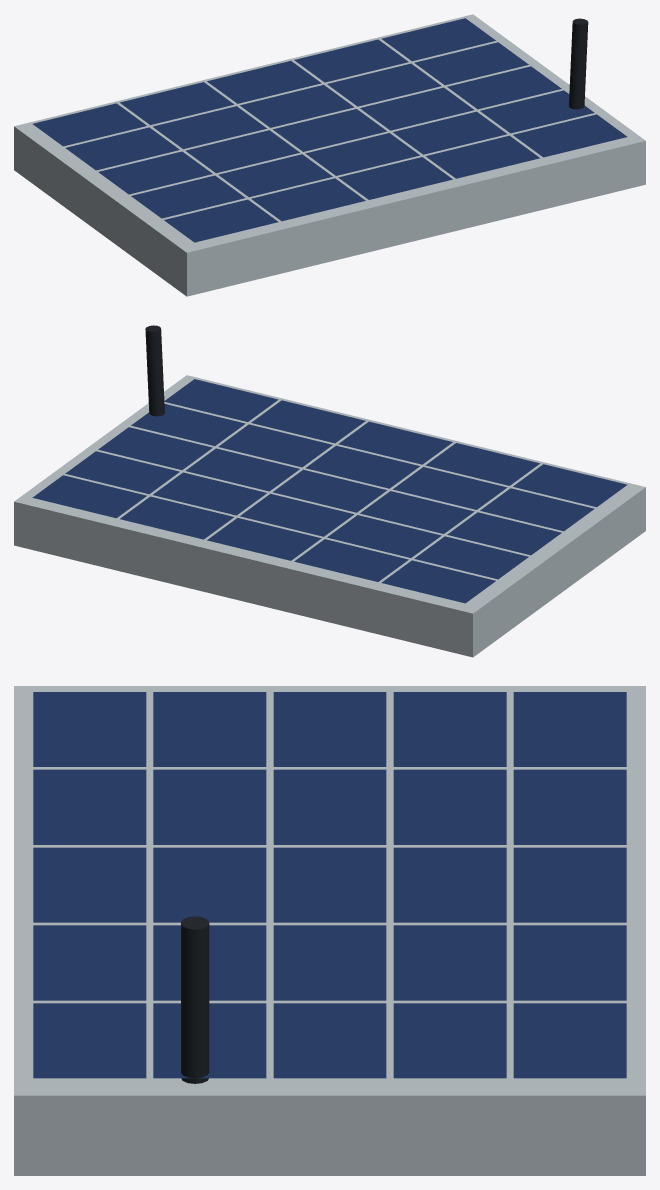
File: ingenuity.solar_panel.glb
3 views of the same model, one above another, from view 1: azimuth 30°, elevation 25°; view 2: azimuth 150°, elevation 25°; view 3: azimuth 270°, elevation 25° (orthographic). The views are drawn at different scales.
Parts seen in each view (by area): view 1: ingenuity.solar_panel.mesh_Indigo_solar_cells, ingenuity.solar_panel.mesh_Satin_aluminum, ingenuity.solar_panel.mesh_Carbon_composite; view 2: ingenuity.solar_panel.mesh_Indigo_solar_cells, ingenuity.solar_panel.mesh_Satin_aluminum, ingenuity.solar_panel.mesh_Carbon_composite; view 3: ingenuity.solar_panel.mesh_Indigo_solar_cells, ingenuity.solar_panel.mesh_Satin_aluminum, ingenuity.solar_panel.mesh_Carbon_composite.
Part boxes in pixels (x1,y1,x2,y2): ingenuity.solar_panel.mesh_Indigo_solar_cells: (33,18,627,242); ingenuity.solar_panel.mesh_Satin_aluminum: (14,14,645,296); ingenuity.solar_panel.mesh_Carbon_composite: (569,18,588,109); ingenuity.solar_panel.mesh_Indigo_solar_cells: (32,379,627,603); ingenuity.solar_panel.mesh_Satin_aluminum: (14,375,645,657); ingenuity.solar_panel.mesh_Carbon_composite: (145,325,164,416); ingenuity.solar_panel.mesh_Indigo_solar_cells: (33,692,626,1078); ingenuity.solar_panel.mesh_Satin_aluminum: (14,686,645,1175); ingenuity.solar_panel.mesh_Carbon_composite: (181,916,209,1083).
Bounding box in the file's own units: 0.23 × 0.0627 × 0.15.
